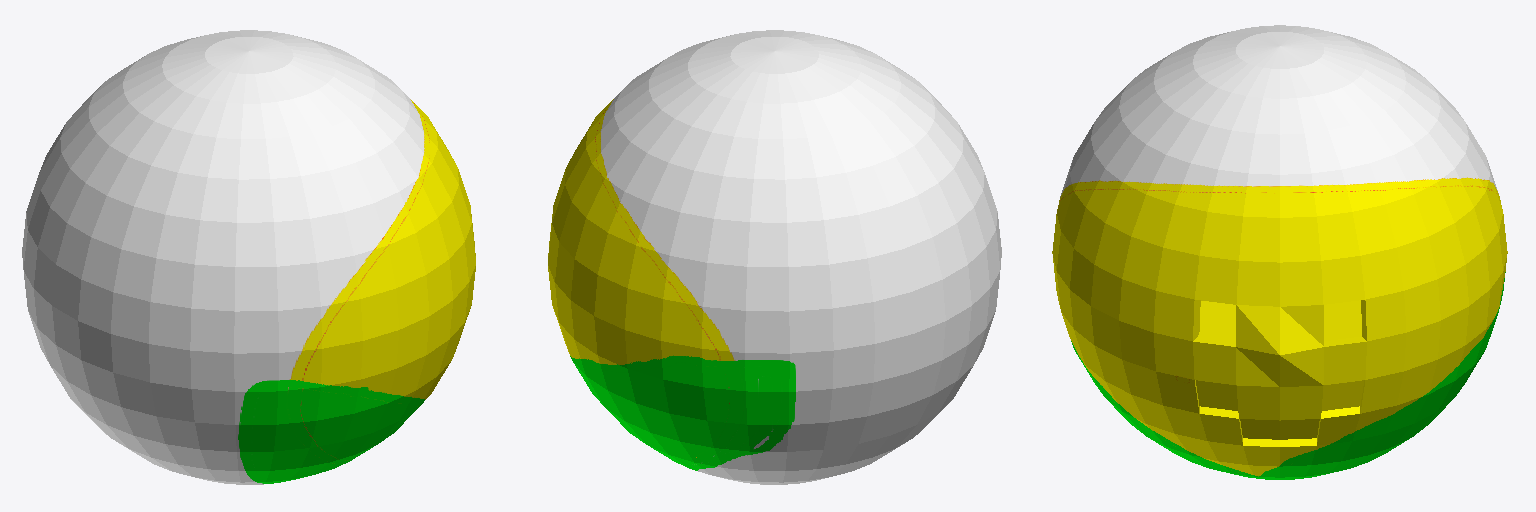
The picture shows the model from 3 angles: view 1: azimuth 30°, elevation 25°; view 2: azimuth 150°, elevation 25°; view 3: azimuth 270°, elevation 25°; orthographic projection.
Visible parts, largest first — view 1: 球; view 2: 球; view 3: 球.
Part boxes in pixels (x1,y1,x2,y2): 球: (22,30,475,484); 球: (548,30,1001,484); 球: (1052,25,1507,479).
Size of the model in its own units: 1.03 by 1 by 1.
Materials: 1 (1 with a texture image).